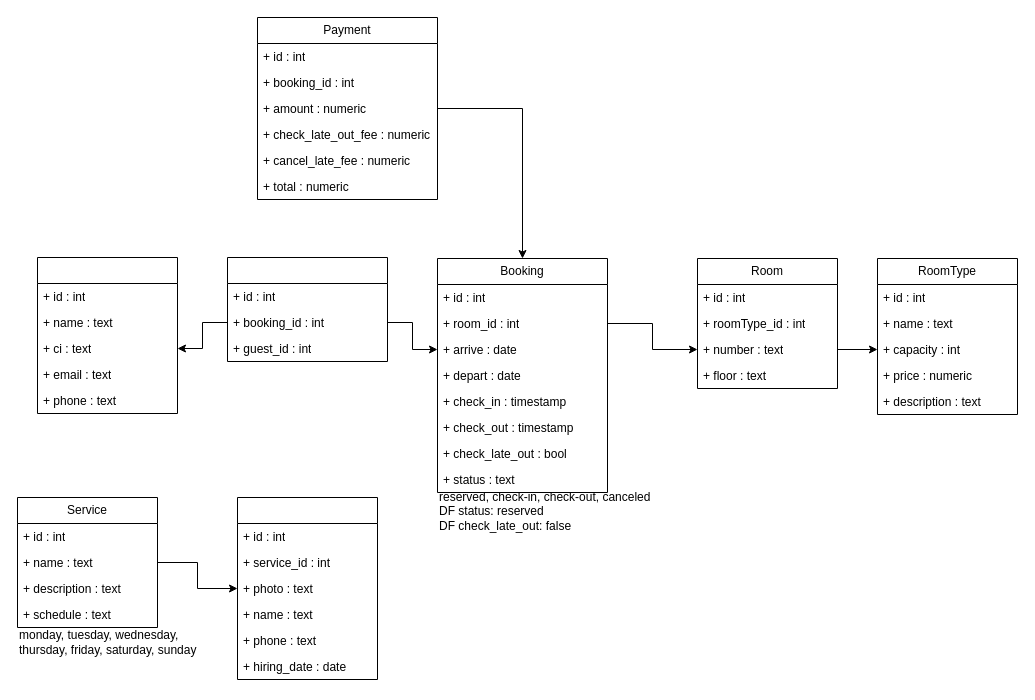
This 1035x700 diagram has some shape labels left out. The box of each missing label's shape, as (x1, y1, x2, y2) in pixels:
Employee: (236, 496, 378, 680)
Guest: (36, 256, 178, 414)
GuestBooking: (226, 256, 388, 362)
